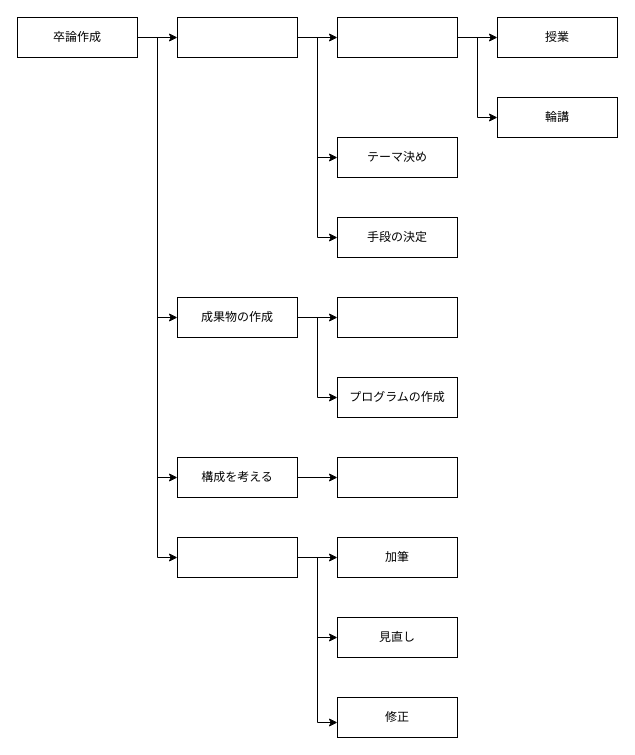
Image size: 635x755. Some labels were removed from this diagram. The centre of each missing label's shape, as x and y in pixels:
アルゴリズムの作成: pixel 397 317
前提知識の獲得: pixel 397 37
執筆: pixel 237 557
準備: pixel 237 37
考える: pixel 397 477
